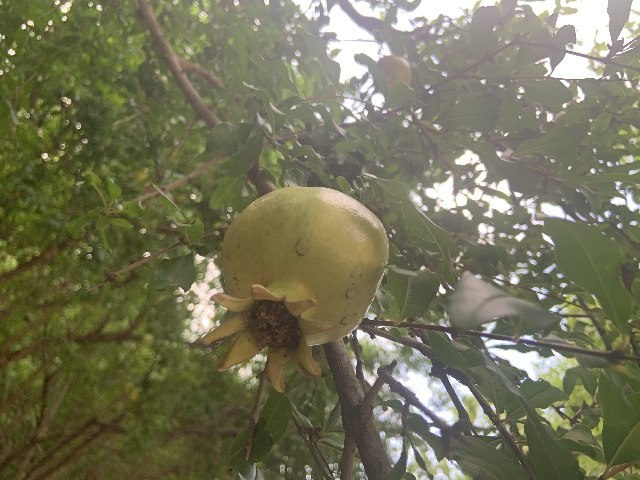mid-growth: (201, 186, 387, 393)
